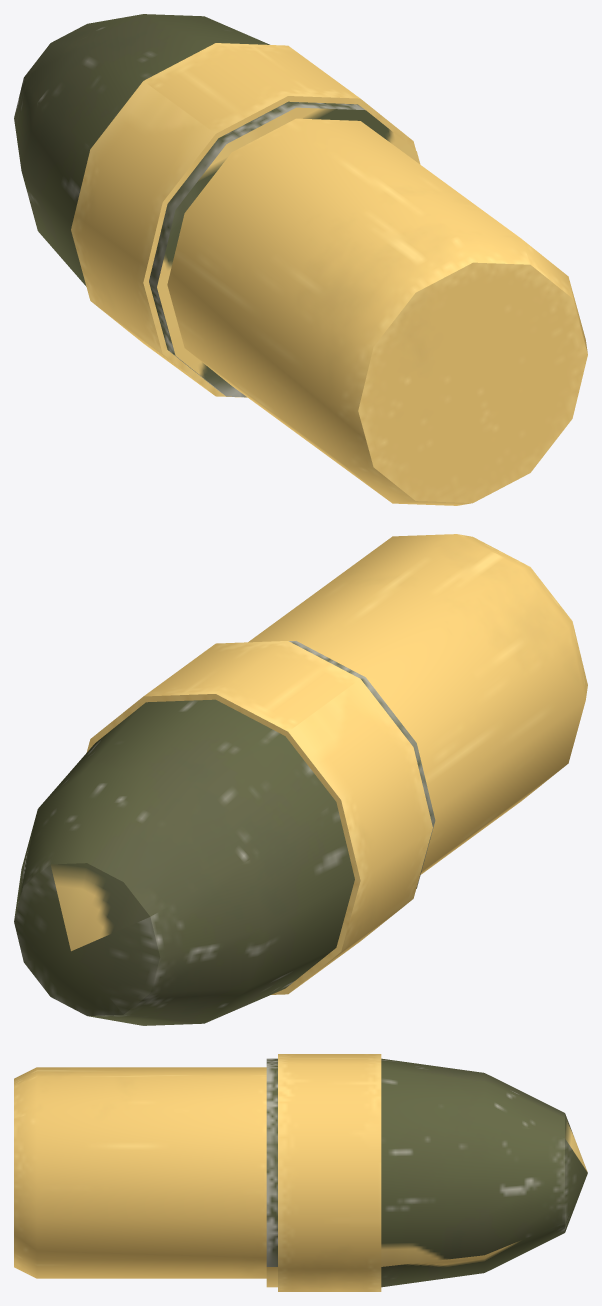
Rendered from grenade-round.glb.
3 views of the same model, one above another, from view 1: azimuth 30°, elevation 25°; view 2: azimuth 150°, elevation 25°; view 3: azimuth 270°, elevation 25° (orthographic). The views are drawn at different scales.
Visible parts, largest first — view 1: Round_Case, Round_Band, Round_Nose; view 2: Round_Nose, Round_Case, Round_Band; view 3: Round_Case, Round_Nose, Round_Band.
Boxes of the visible parts, x1,y1,x2,y2 form: Round_Case: (167,118,587,505); Round_Band: (71,43,415,397); Round_Nose: (14,14,420,397); Round_Nose: (14,641,435,1025); Round_Case: (248,534,587,874); Round_Band: (86,641,432,994); Round_Case: (14,1067,266,1278); Round_Nose: (266,1058,587,1287); Round_Band: (278,1054,381,1291).
Size of the model in its own units: 0.0416 by 0.0416 by 0.1.
1 material, 1 textured.
